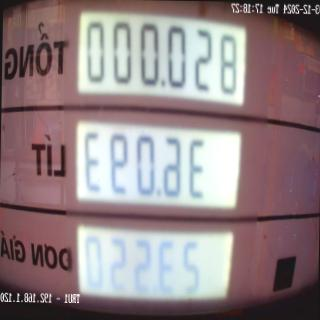screen: (67, 3, 249, 316)
